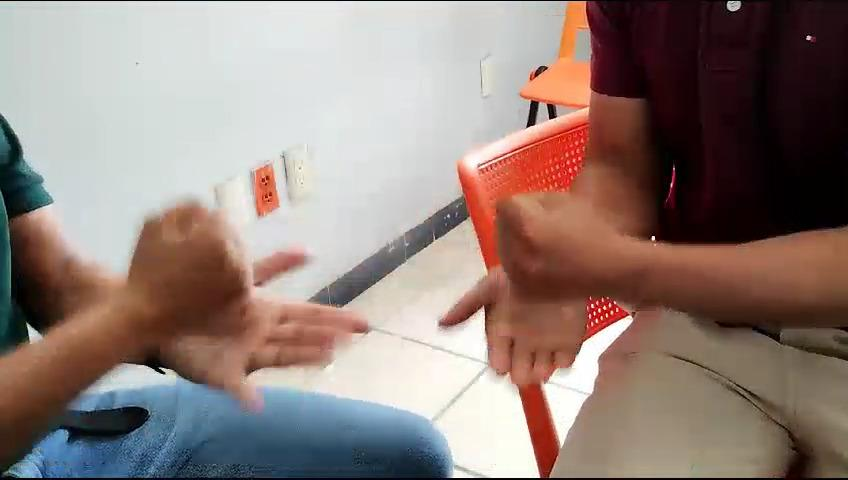Stone: (81, 195, 316, 370), (451, 192, 638, 324)
